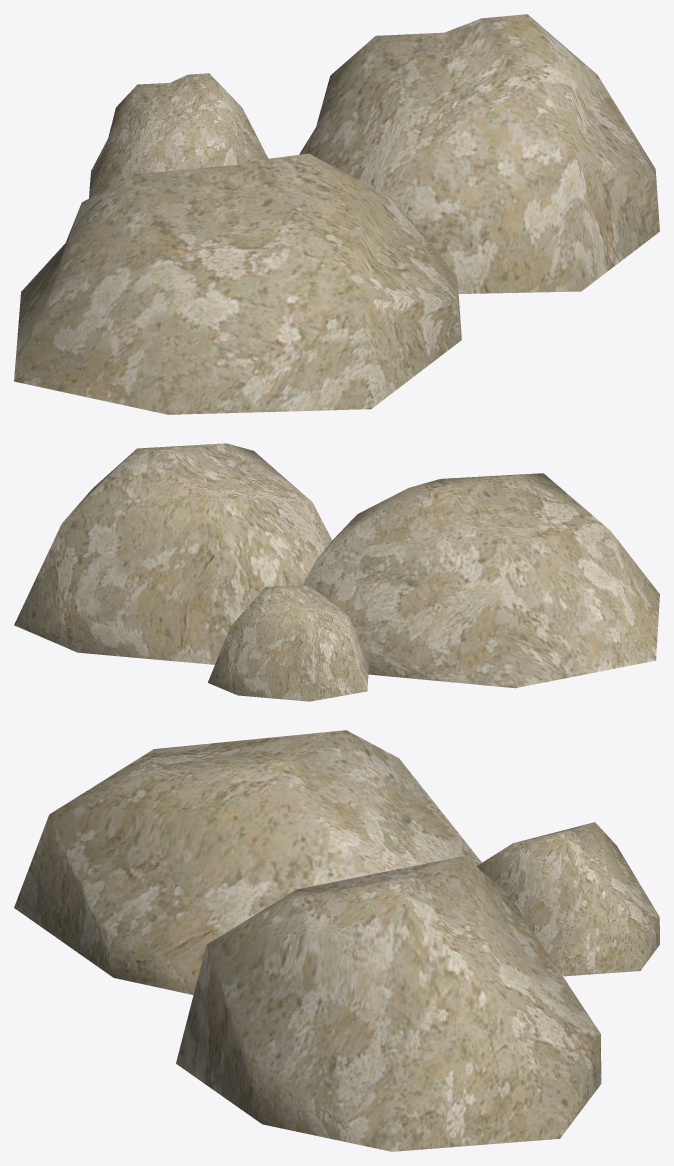
Rendered from rock_small_pile_l0.fbx.
3 views of the same model, one above another, from view 1: azimuth 30°, elevation 25°; view 2: azimuth 150°, elevation 25°; view 3: azimuth 270°, elevation 25° (orthographic). The views are drawn at different scales.
Visible parts, largest first — view 1: mesh_node; view 2: mesh_node; view 3: mesh_node.
Boxes of the visible parts, left/top/right/bottom form: mesh_node: left=14, top=14, right=659, bottom=414; mesh_node: left=14, top=443, right=659, bottom=701; mesh_node: left=14, top=730, right=659, bottom=1151.
Size of the model in its own units: 1.71 by 0.4469 by 1.32.
